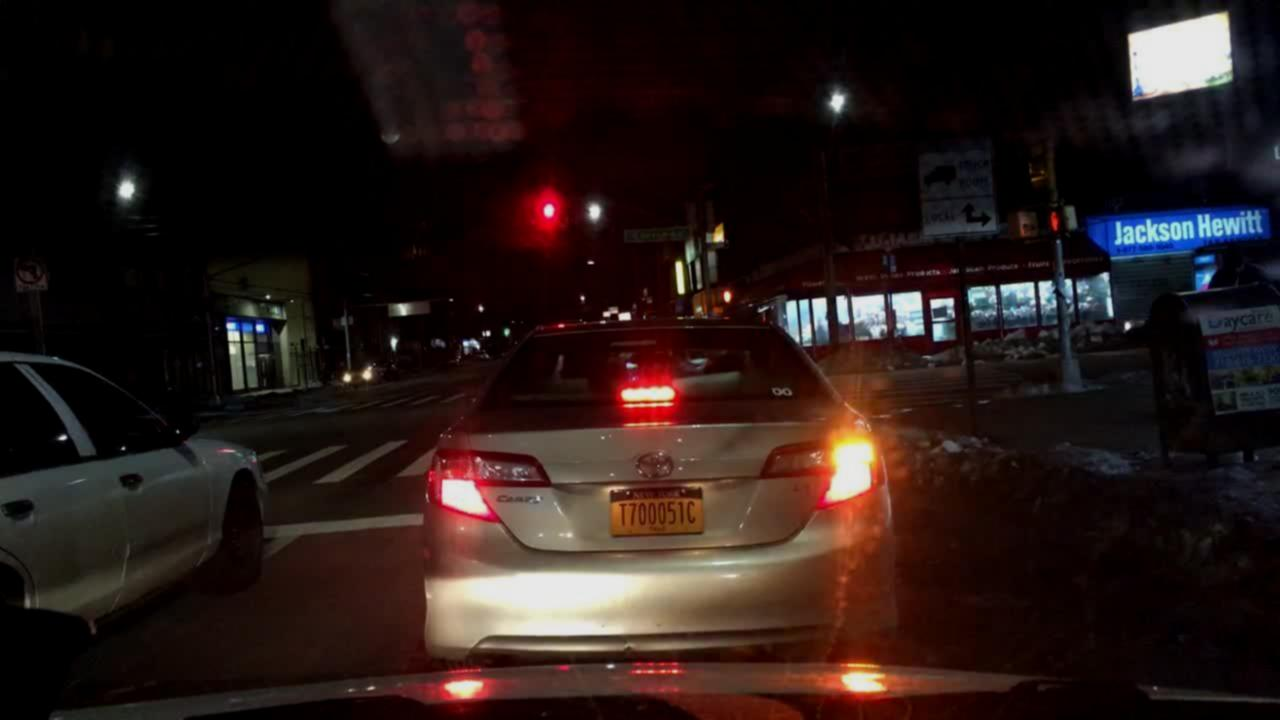Toyota: (619, 446, 691, 487)
